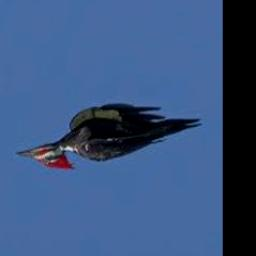Woodpecker: (16, 105, 202, 171)
